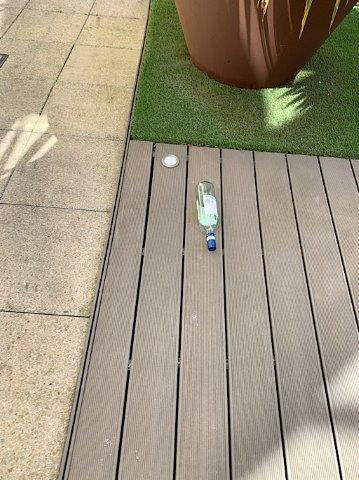botolkaca: (196, 181, 219, 252)
